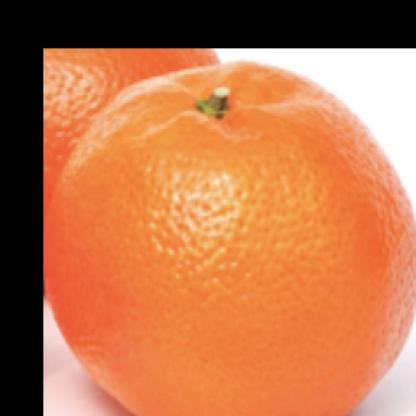rotten: (36, 61, 416, 416)
